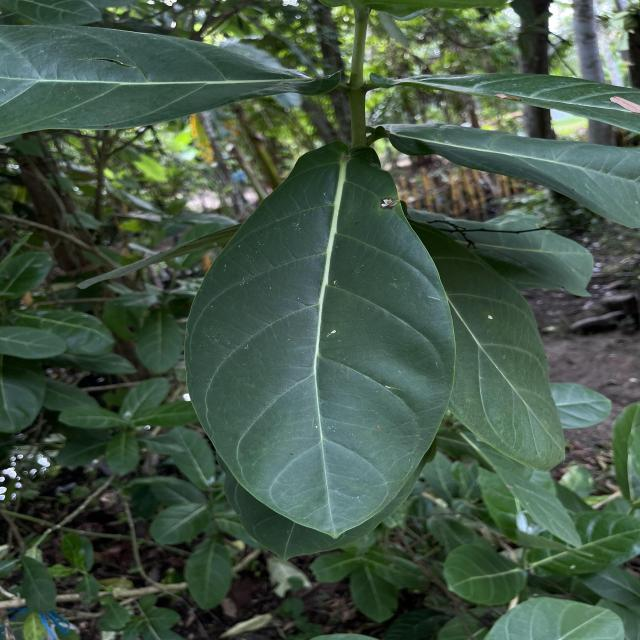Calotropis gigantea: (178, 141, 461, 544), (404, 220, 568, 474)
